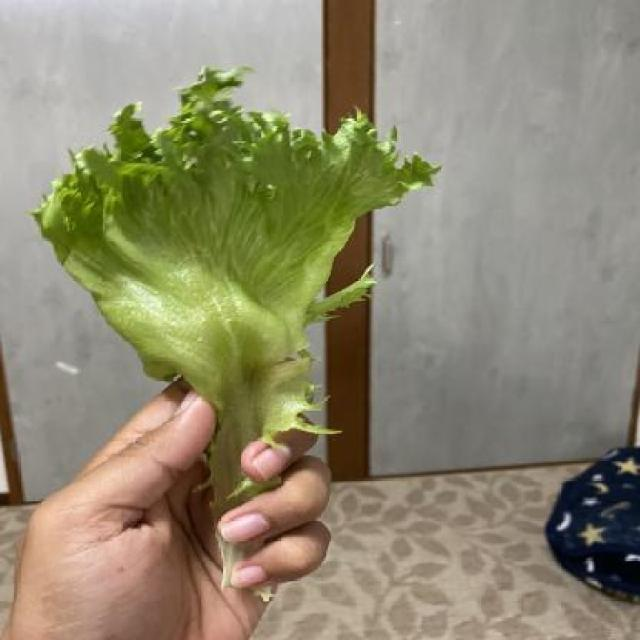Lettuce: (38, 62, 438, 547)
